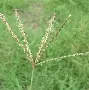weed: (0, 0, 88, 60)
